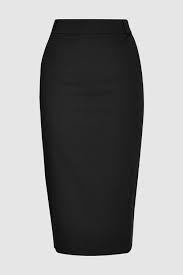F_tailored skirt: (33, 14, 151, 262)
